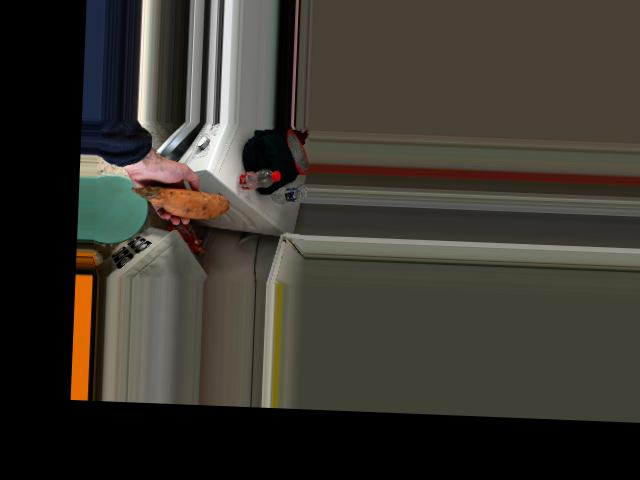sweet_potato: (120, 191, 226, 223)
